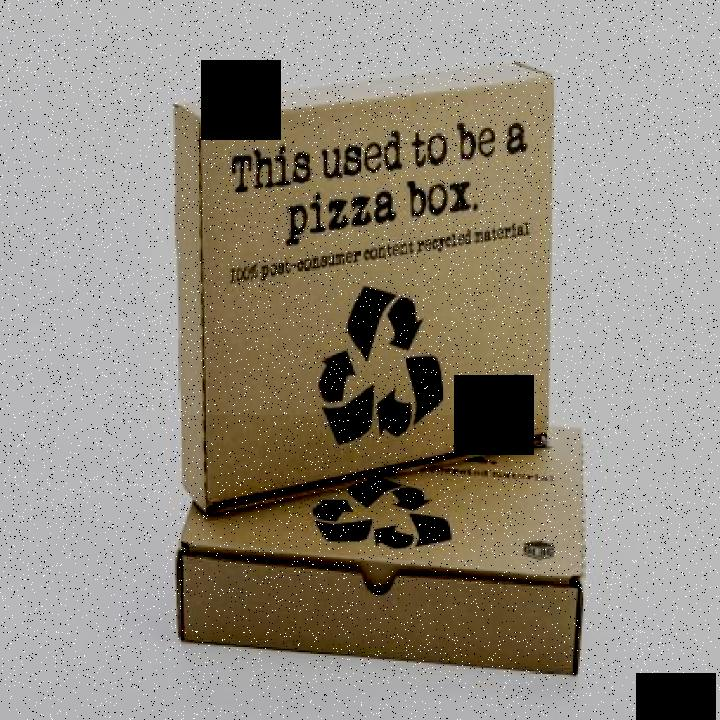box: (152, 36, 585, 521), (168, 415, 599, 686)
